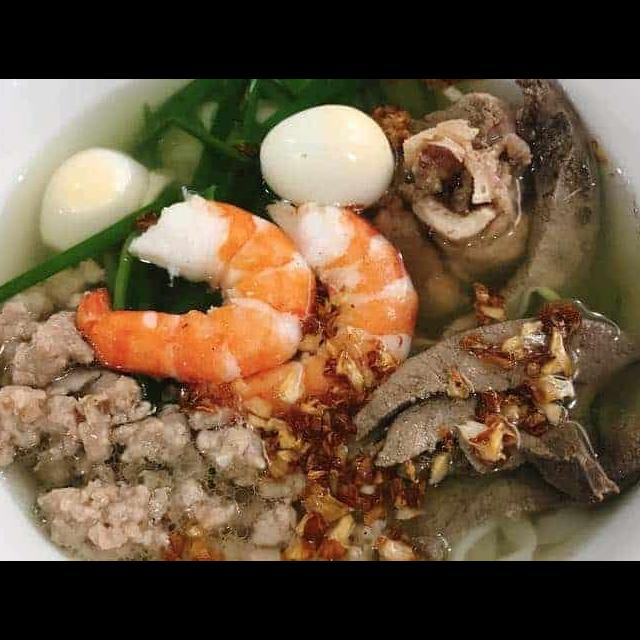gan: (432, 80, 611, 351), (373, 398, 640, 554), (344, 305, 640, 445), (370, 323, 491, 469)
thit bam: (0, 251, 314, 561)
tom: (178, 190, 422, 433), (64, 179, 318, 390)
trung: (254, 99, 400, 216), (33, 138, 159, 268)
